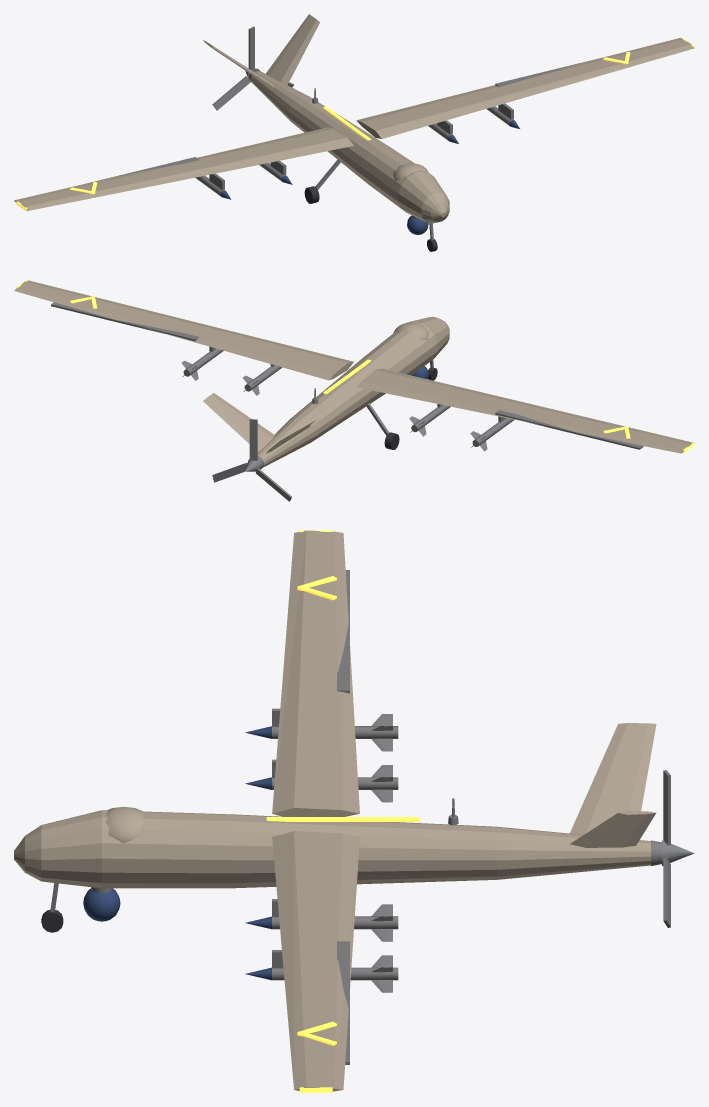
The model's file is uav_red.glb.
3 views of the same model, one above another, from view 1: azimuth 30°, elevation 25°; view 2: azimuth 150°, elevation 25°; view 3: azimuth 270°, elevation 25° (orthographic). The views are drawn at different scales.
Parts seen in each view (by area): view 1: body, prop; view 2: body, prop; view 3: body, prop.
Part boxes in pixels (<box>): body: <box>14,14,694,251</box>; prop: <box>212,26,293,110</box>; body: <box>14,280,694,469</box>; prop: <box>212,419,291,501</box>; body: <box>14,530,661,1092</box>; prop: <box>662,770,694,927</box>.
Size of the model in its own units: 12.03 by 1.66 by 6.2.
